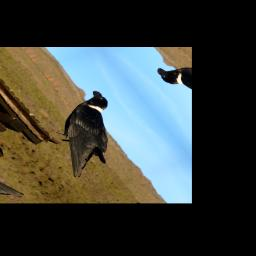Crow: (22, 88, 153, 179)
